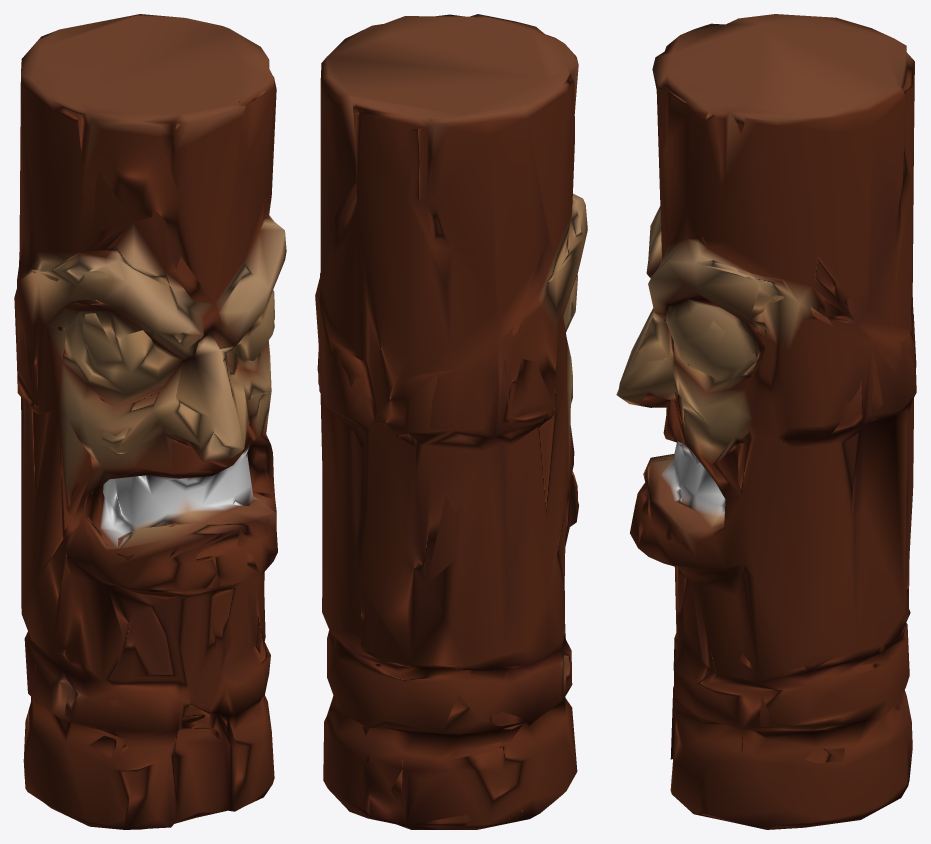
Rendered from gen3d-tiki-totem-lod0.glb.
The picture shows the model from 3 angles, left to right: view 1: azimuth 30°, elevation 25°; view 2: azimuth 150°, elevation 25°; view 3: azimuth 270°, elevation 25°; orthographic projection.
Visible parts, largest first — view 1: part_0; view 2: part_0; view 3: part_0.
Part boxes in pixels (x1,y1,x2,y2): part_0: (14,14,286,829); part_0: (315,14,587,829); part_0: (616,14,916,829).
Bounding box in the file's own units: 0.3267 × 1 × 0.3805.
